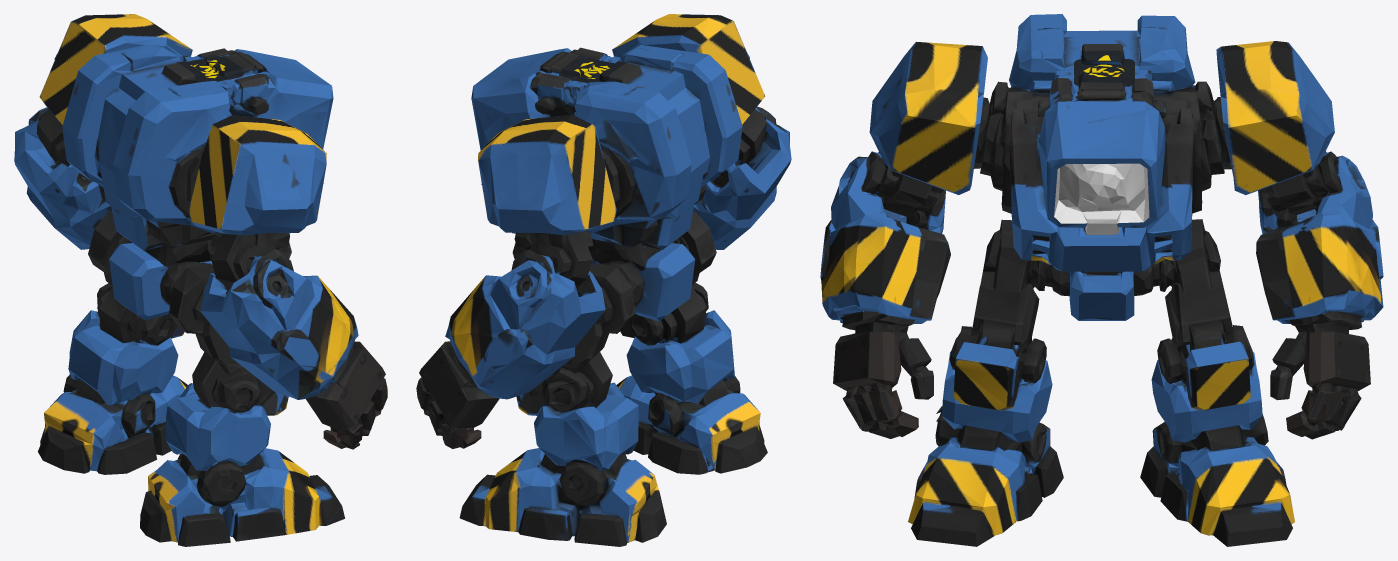
Rendered from heavy_meshy_parts_emblem.fbx.
3 renders of one model, left to right at view 1: azimuth 30°, elevation 25°; view 2: azimuth 150°, elevation 25°; view 3: azimuth 270°, elevation 25°, orthographic. The views are drawn at different scales.
Visible parts, largest first — view 1: HeadTorso, UpperArm_R, ShinFoot_R, ShinFoot_L, UpperArm_L, Thigh_R, ForearmHand_R, Pelvis, Thigh_L, Z_Emblem; view 2: HeadTorso, UpperArm_L, ShinFoot_L, ShinFoot_R, UpperArm_R, Thigh_L, ForearmHand_L, Pelvis, Thigh_R, Z_Emblem; view 3: HeadTorso, UpperArm_L, UpperArm_R, ShinFoot_R, ShinFoot_L, Thigh_R, Thigh_L, ForearmHand_R, ForearmHand_L, Pelvis, Z_Emblem.
Part boxes in pixels (bbox=[...]): HeadTorso: bbox=[62, 35, 333, 253]; UpperArm_R: bbox=[188, 115, 358, 399]; ShinFoot_R: bbox=[140, 388, 344, 546]; ShinFoot_L: bbox=[38, 319, 187, 474]; UpperArm_L: bbox=[14, 14, 192, 249]; Thigh_R: bbox=[169, 263, 288, 423]; ForearmHand_R: bbox=[274, 341, 387, 449]; Pelvis: bbox=[109, 236, 215, 320]; Thigh_L: bbox=[83, 210, 184, 351]; Z_Emblem: bbox=[177, 55, 243, 82]; HeadTorso: bbox=[471, 35, 742, 253]; UpperArm_L: bbox=[445, 115, 616, 399]; ShinFoot_L: bbox=[459, 388, 666, 546]; ShinFoot_R: bbox=[616, 319, 767, 474]; UpperArm_R: bbox=[612, 14, 791, 249]; Thigh_L: bbox=[516, 263, 635, 423]; ForearmHand_L: bbox=[416, 341, 499, 448]; Pelvis: bbox=[589, 236, 695, 321]; Thigh_R: bbox=[620, 210, 721, 351]; Z_Emblem: bbox=[559, 55, 626, 83]; HeadTorso: bbox=[974, 14, 1230, 272]; UpperArm_L: bbox=[1221, 41, 1383, 334]; UpperArm_R: bbox=[820, 41, 982, 325]; ShinFoot_R: bbox=[908, 365, 1063, 546]; ShinFoot_L: bbox=[1140, 365, 1294, 546]; Thigh_R: bbox=[944, 219, 1047, 411]; Thigh_L: bbox=[1156, 219, 1260, 410]; ForearmHand_R: bbox=[833, 322, 933, 438]; ForearmHand_L: bbox=[1270, 322, 1370, 439]; Pelvis: bbox=[1037, 259, 1173, 320]; Z_Emblem: bbox=[1074, 50, 1134, 86].
Bounding box in the file's own units: 138 × 248 × 278.
Materials: 3 (2 with a texture image).
